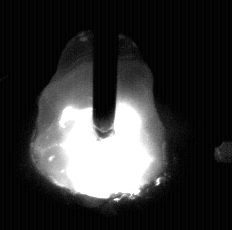arame: (93, 0, 117, 139)
poca: (31, 0, 166, 230)
